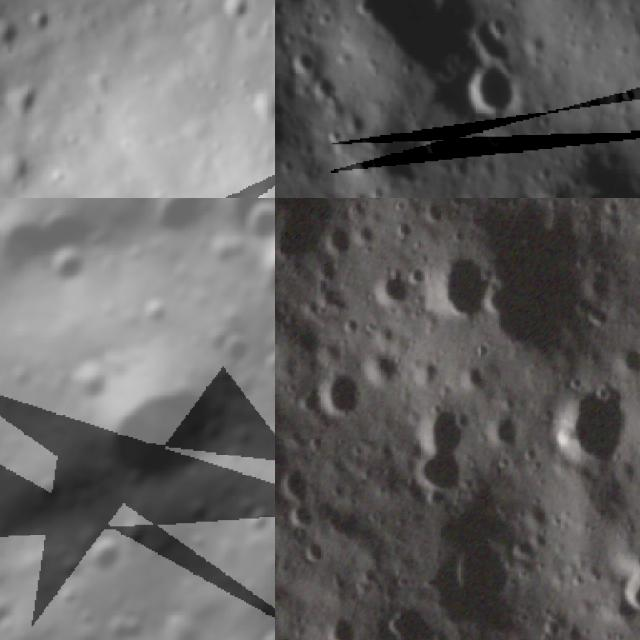crater: (74, 340, 248, 516), (547, 376, 634, 471), (426, 242, 496, 331), (449, 532, 529, 606), (0, 206, 64, 289), (74, 523, 143, 590), (407, 446, 471, 509), (34, 242, 92, 303), (401, 399, 466, 452), (18, 462, 73, 518), (146, 198, 212, 243), (208, 326, 260, 379), (96, 595, 156, 640), (64, 360, 116, 410), (231, 198, 275, 256), (463, 64, 512, 115), (367, 262, 414, 312), (316, 373, 368, 417), (147, 605, 211, 640), (461, 18, 513, 58), (249, 232, 275, 307), (4, 84, 43, 126), (279, 464, 322, 501), (318, 605, 359, 640), (284, 499, 324, 534), (0, 594, 27, 640), (246, 85, 275, 127), (299, 531, 331, 568), (320, 221, 354, 255), (311, 258, 347, 286), (621, 566, 640, 618), (220, 0, 257, 26), (28, 8, 58, 38), (281, 52, 315, 77), (0, 14, 24, 49), (319, 126, 346, 150), (628, 531, 640, 584), (611, 83, 638, 104), (578, 186, 615, 198), (310, 80, 332, 99)
